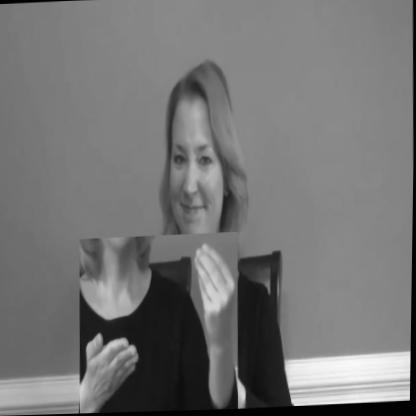Expensive: (77, 232, 240, 414)
